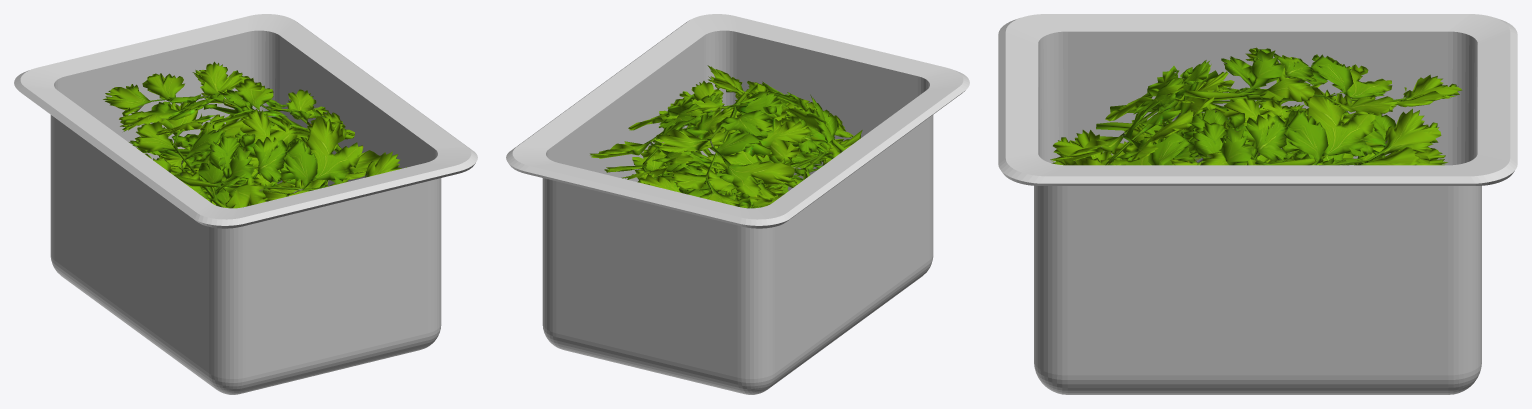
The model's file is Box Of Cilantro.fbx.
3 renders of one model, left to right at view 1: azimuth 30°, elevation 25°; view 2: azimuth 150°, elevation 25°; view 3: azimuth 270°, elevation 25°, orthographic. The views are drawn at different scales.
Visible parts, largest first — view 1: Cilantro_Container, Cilantro; view 2: Cilantro_Container, Cilantro; view 3: Cilantro_Container, Cilantro.
Part boxes in pixels (x1=…): Cilantro_Container: x1=14, y1=14, x2=477, y2=394; Cilantro: x1=103, y1=61, x2=406, y2=208; Cilantro_Container: x1=506, y1=14, x2=969, y2=394; Cilantro: x1=590, y1=65, x2=862, y2=208; Cilantro_Container: x1=998, y1=14, x2=1517, y2=394; Cilantro: x1=1050, y1=47, x2=1462, y2=165.
Bounding box in the file's own units: 16.78 × 12.82 × 21.97.
2 materials, 1 textured.
